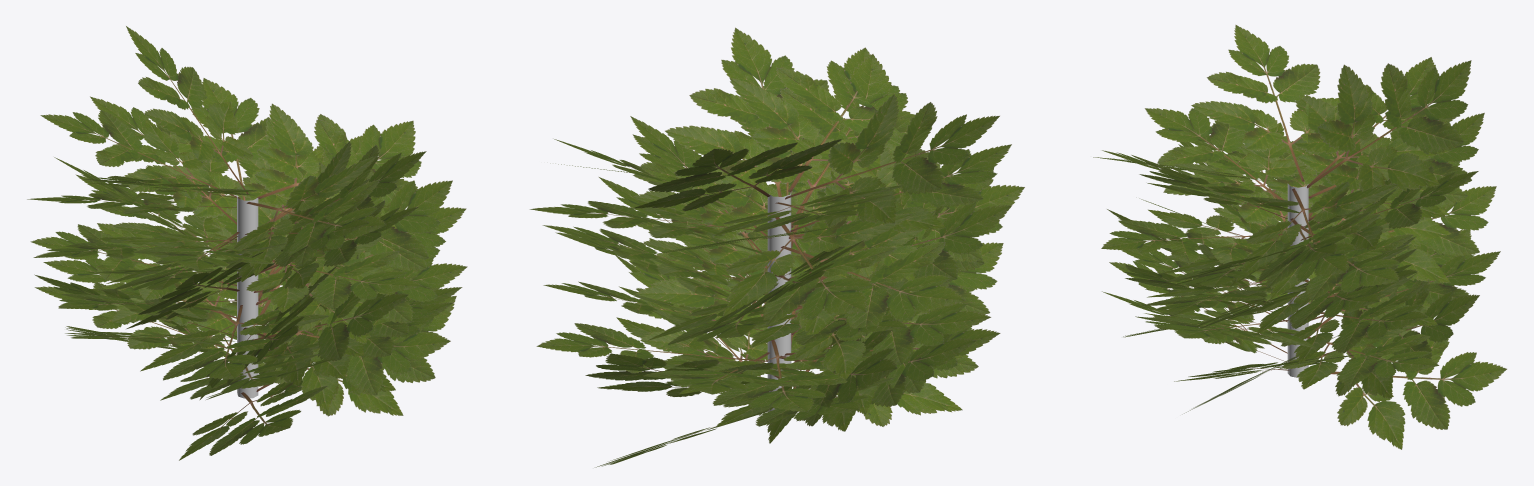
File: Leaves-Quad.glb
3 views of the same model, side by side, from view 1: azimuth 30°, elevation 25°; view 2: azimuth 150°, elevation 25°; view 3: azimuth 270°, elevation 25° (orthographic). The views are drawn at different scales.
Visible parts, largest first — view 1: Cylinder.001; view 2: Cylinder.001; view 3: Cylinder.001.
Part boxes in pixels (x1,y1,x2,y2): Cylinder.001: (27,26,467,460); Cylinder.001: (529,27,1024,467); Cylinder.001: (1093,24,1506,449).
Bounding box in the file's own units: 4.31 × 3.6 × 4.25.
Materials: 1 (1 with a texture image).
